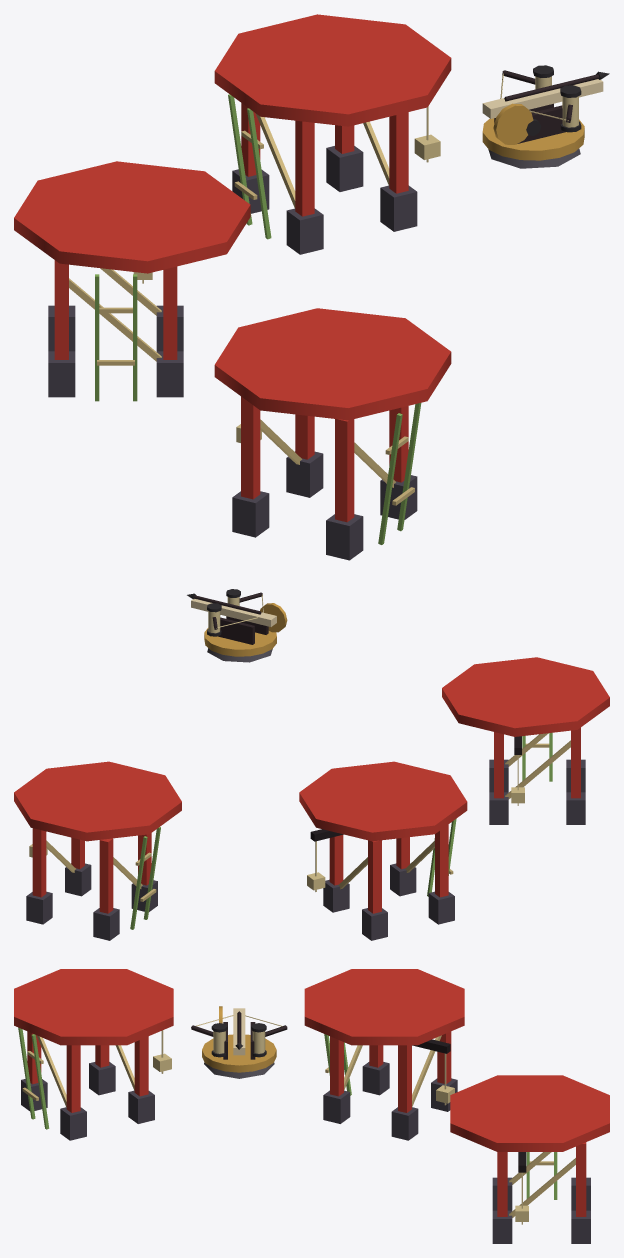
Rendered from base_builder_weapon_2.glb.
3 views of the same model, one above another, from view 1: azimuth 30°, elevation 25°; view 2: azimuth 150°, elevation 25°; view 3: azimuth 270°, elevation 25° (orthographic). The views are drawn at different scales.
Visible parts, largest first — view 1: tower_slot_3_plate, tower_slot_2_plate, tower_slot_1_plate, weapon_mount_gear, tower_slot_2_leg_1, tower_slot_2_leg_0, tower_slot_3_leg_3, tower_slot_3_leg_2, tower_slot_3_foot_3, tower_slot_3_foot_2, tower_slot_2_foot_0, tower_slot_2_foot_1 (+19 smaller); view 2: tower_slot_1_plate, tower_slot_2_plate, tower_slot_3_plate, weapon_mount_gear, tower_slot_3_leg_1, tower_slot_1_leg_0, tower_slot_3_leg_0, tower_slot_1_leg_1, stock, tower_slot_3_foot_0, tower_slot_1_foot_1, tower_slot_3_foot_1 (+11 smaller); view 3: tower_slot_1_plate, tower_slot_3_plate, tower_slot_2_plate, weapon_mount_gear, tower_slot_2_leg_3, tower_slot_1_leg_2, tower_slot_2_leg_2, tower_slot_3_leg_0, tower_slot_1_foot_1, tower_slot_1_foot_3, tower_slot_1_foot_2, tower_slot_1_leg_3 (+17 smaller).
Boxes of the visible parts, x1,y1,x2,y2 form: tower_slot_3_plate: (214,14,451,126); tower_slot_2_plate: (214,308,451,420); tower_slot_1_plate: (14,161,250,273); weapon_mount_gear: (482,118,584,160); tower_slot_2_leg_1: (335,419,354,522); tower_slot_2_leg_0: (241,396,260,499); tower_slot_3_leg_3: (295,120,314,216); tower_slot_3_leg_2: (389,112,408,193); tower_slot_3_foot_3: (286,208,323,254); tower_slot_3_foot_2: (380,185,417,231); tower_slot_2_foot_0: (232,491,269,537); tower_slot_2_foot_1: (326,514,363,560); tower_slot_1_plate: (299,761,467,841); tower_slot_2_plate: (442,657,609,736); tower_slot_3_plate: (14,761,181,841); weapon_mount_gear: (204,628,276,656); tower_slot_3_leg_1: (99,838,113,913); tower_slot_1_leg_0: (368,840,381,913); tower_slot_3_leg_0: (32,828,46,897); tower_slot_1_leg_1: (435,824,448,897); stock: (191,599,276,626); tower_slot_3_foot_0: (26,891,52,924); tower_slot_1_foot_1: (428,891,454,924); tower_slot_3_foot_1: (93,908,119,940); tower_slot_1_plate: (304,969,464,1045); tower_slot_3_plate: (450,1075,609,1151); tower_slot_2_plate: (14,969,173,1045); weapon_mount_gear: (202,1034,276,1072); tower_slot_2_leg_3: (66,1045,80,1112); tower_slot_1_leg_2: (398,1045,411,1112); tower_slot_2_leg_2: (134,1036,148,1096); tower_slot_3_leg_0: (576,1142,586,1216); tower_slot_1_foot_1: (362,1062,389,1095); tower_slot_1_foot_3: (323,1090,350,1123); tower_slot_1_foot_2: (391,1107,418,1140); tower_slot_1_leg_3: (330,1036,343,1096).
Size of the model in its own units: 1.05 by 0.576 by 1.52.
